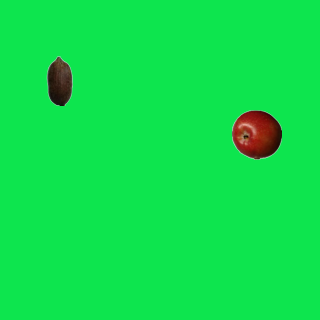Apple Braeburn: (231, 109, 281, 159)
Nut Pecan: (34, 55, 84, 105)
